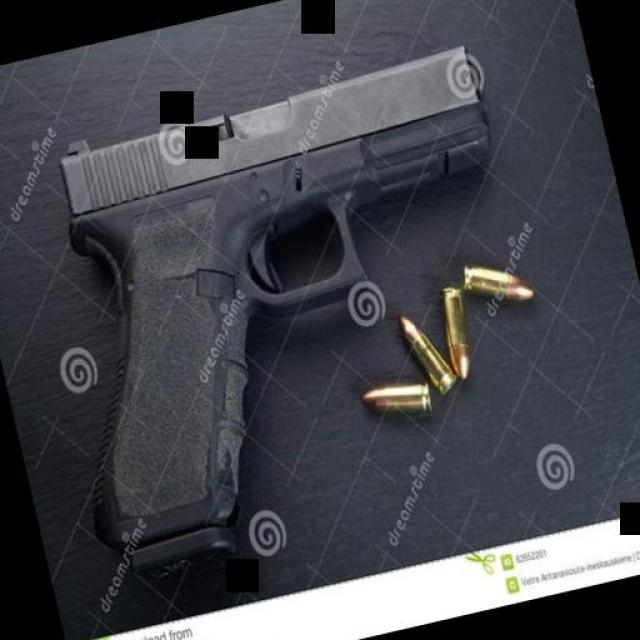gun: (5, 39, 564, 578)
